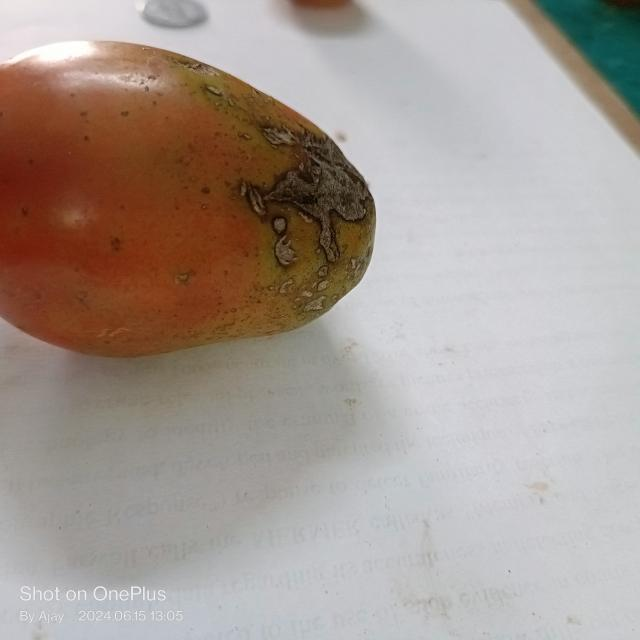Bacterial_Spot: (239, 125, 371, 270)
